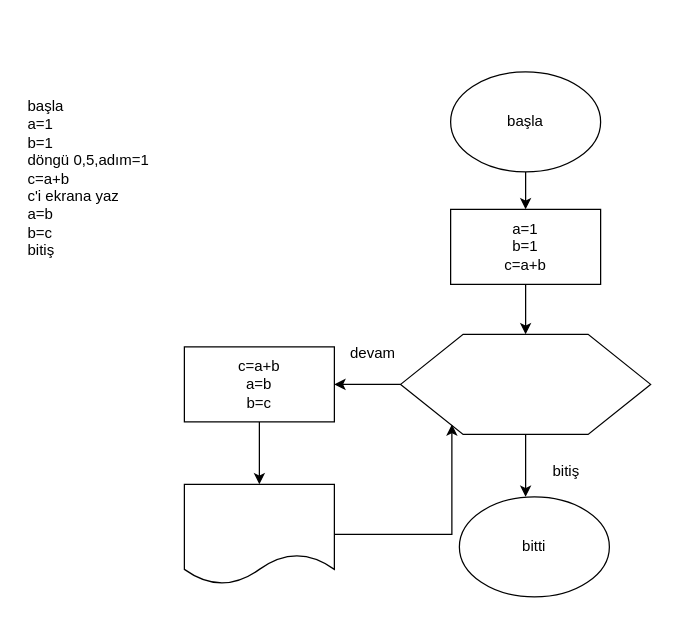
Image size: 673x619. Some labels were removed from this diagram. Here are the shapes that lost their labels. From the top down, the centre of each, then its label:
the point at 525,383: 0,5,adım=1
the point at 258,533: c'i ekrana yaz
